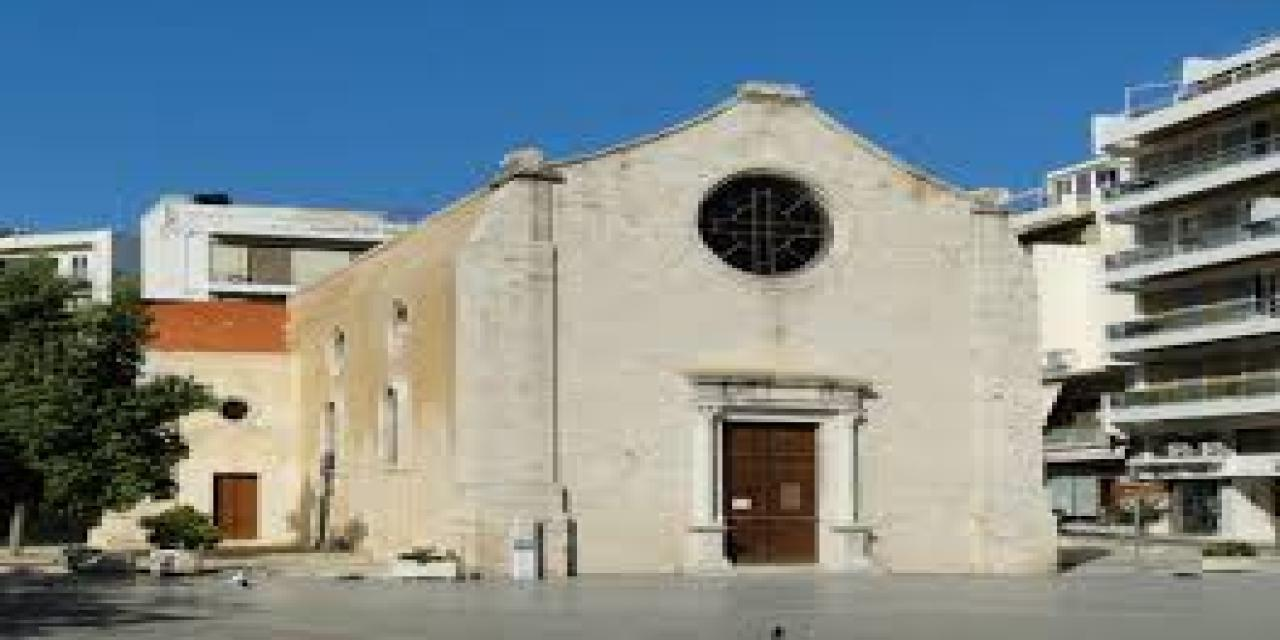Agia Aikaterini: (217, 82, 1052, 580)
